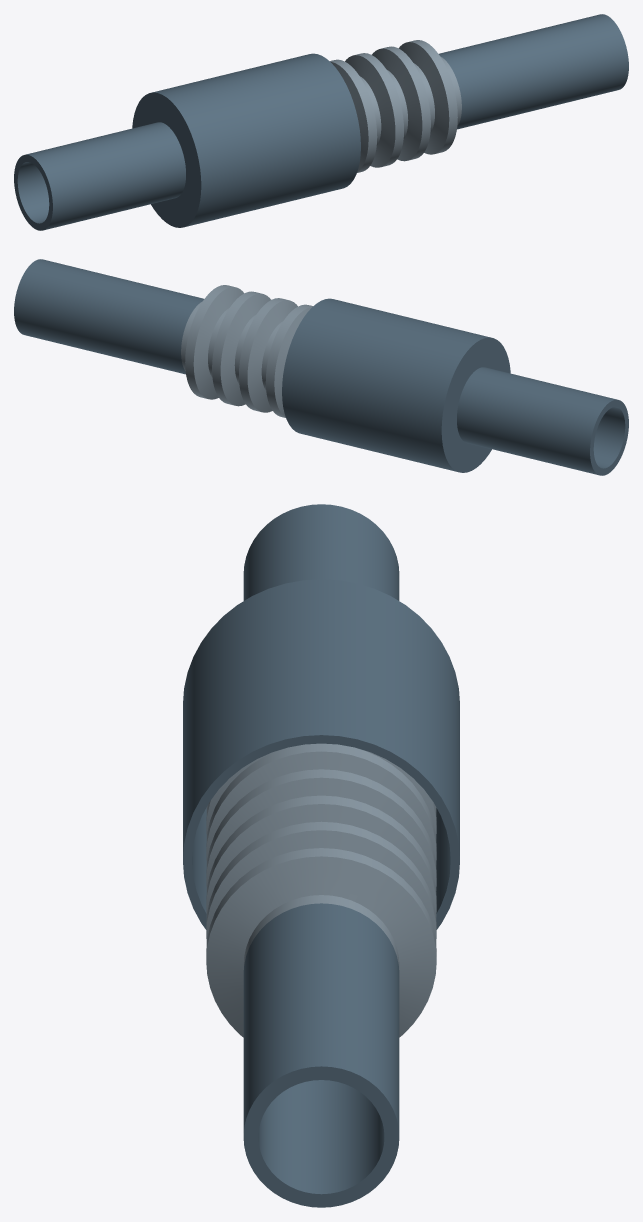
Rendered from silf-dn25-L285-D33_4-k-o48_3.glb.
The picture shows the model from 3 angles, top to bottom: view 1: azimuth 30°, elevation 25°; view 2: azimuth 150°, elevation 25°; view 3: azimuth 270°, elevation 25°; orthographic projection. The views are drawn at different scales.
Visible parts, largest first — view 1: osnovanie_kozhuh_1, patrubok_2, patrubok_1, prokladka_silfon_1; view 2: osnovanie_kozhuh_1, patrubok_2, patrubok_1, prokladka_silfon_1; view 3: osnovanie_kozhuh_1, prokladka_silfon_1, patrubok_2, patrubok_1.
Part boxes in pixels (x1,y1,x2,y2): osnovanie_kozhuh_1: (132,53,360,227); patrubok_2: (439,14,628,129); patrubok_1: (14,122,185,230); prokladka_silfon_1: (330,40,461,172); osnovanie_kozhuh_1: (282,298,510,472); patrubok_2: (14,259,203,374); patrubok_1: (457,367,628,475); prokladka_silfon_1: (181,285,312,417); osnovanie_kozhuh_1: (183,579,459,929); prokladka_silfon_1: (206,743,436,1037); patrubok_2: (243,903,399,1207); patrubok_1: (243,504,399,600).
Size of the model in its own units: 285 by 59.41 by 59.41.
